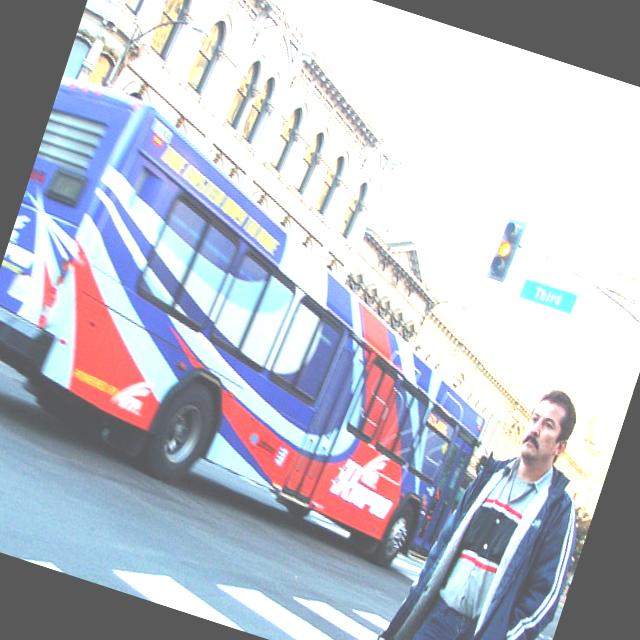Vehicle: (0, 77, 547, 581)
